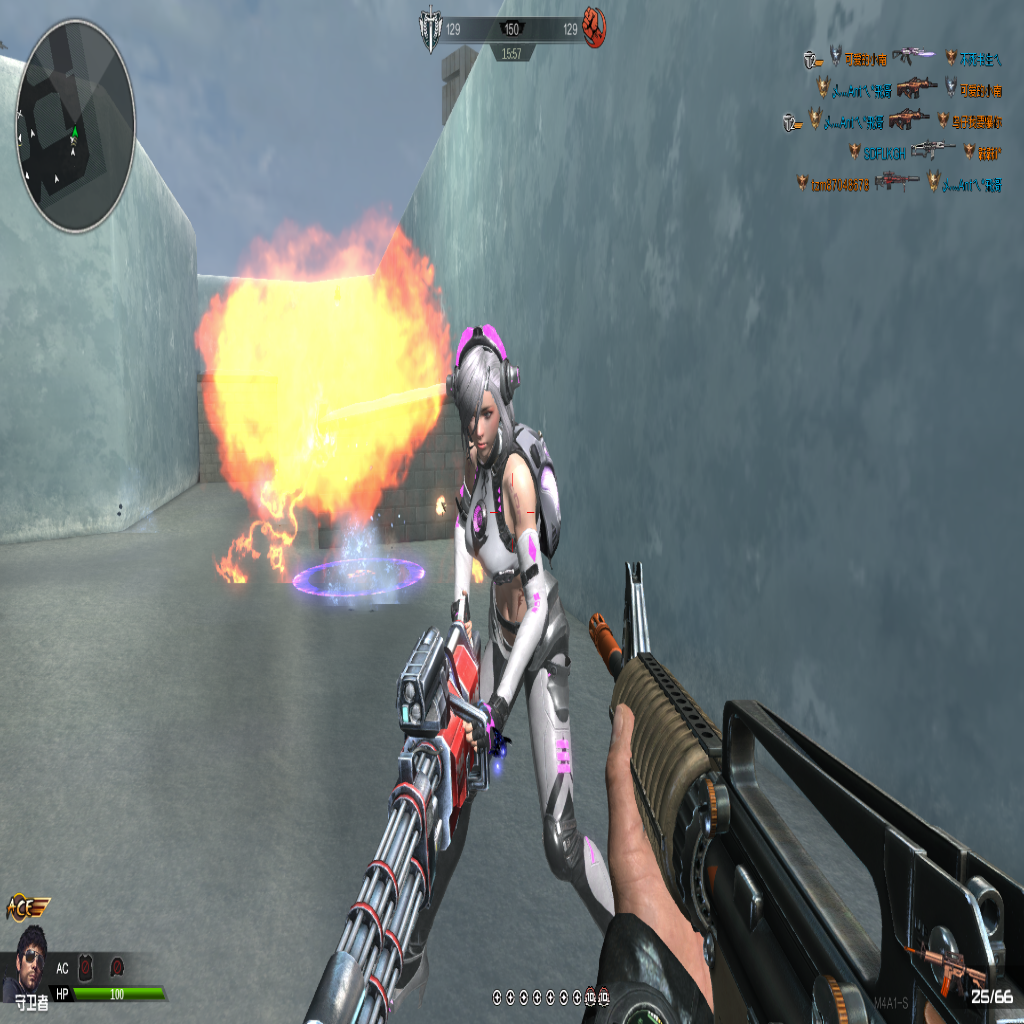tt: (443, 328, 590, 942)
